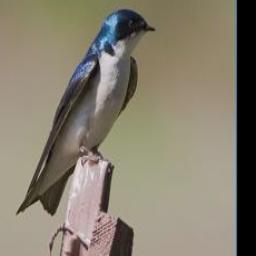Swallow: (13, 7, 157, 218)
